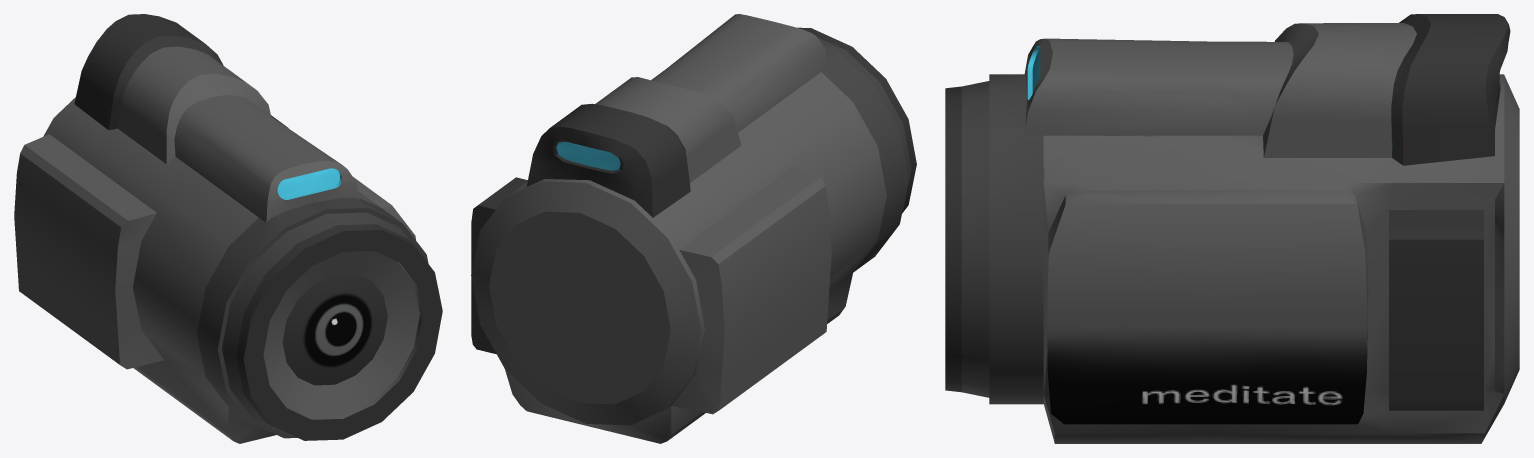
Rendered from camera.obj.
3 views of the same model, side by side, from view 1: azimuth 30°, elevation 25°; view 2: azimuth 150°, elevation 25°; view 3: azimuth 270°, elevation 25° (orthographic). The views are drawn at different scales.
Parts seen in each view (by area): view 1: Sketch.005; view 2: Sketch.005; view 3: Sketch.005.
Boxes of the visible parts, <box> form: Sketch.005: <box>14,14,442,443</box>; Sketch.005: <box>471,14,916,443</box>; Sketch.005: <box>945,14,1519,443</box>.
Size of the model in its own units: 0.1094 by 0.1254 by 0.1726.
Materials: 1 (1 with a texture image).
